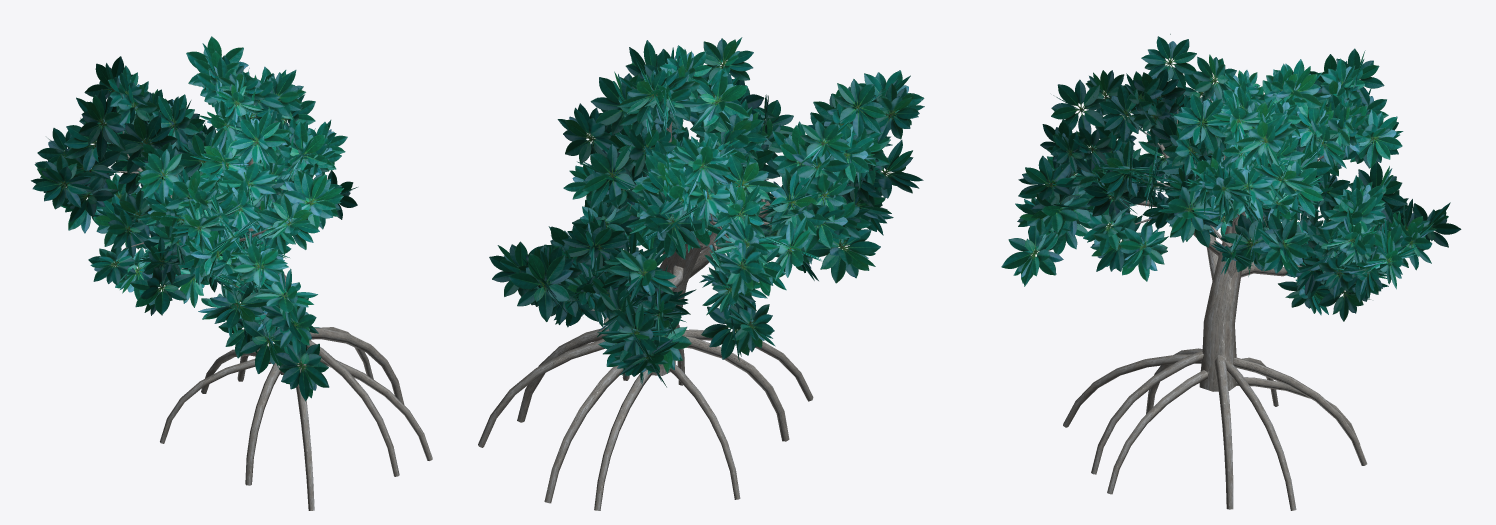
File: nature-blue-mangrove_v3.glb
3 renders of one model, left to right at view 1: azimuth 30°, elevation 25°; view 2: azimuth 150°, elevation 25°; view 3: azimuth 270°, elevation 25°, orthographic. The views are drawn at different scales.
Visible parts, largest first — view 1: nature-blue-mangrove; view 2: nature-blue-mangrove; view 3: nature-blue-mangrove.
Part boxes in pixels (<box>): nature-blue-mangrove: <box>31,36,432,510</box>; nature-blue-mangrove: <box>478,37,924,510</box>; nature-blue-mangrove: <box>1001,34,1461,510</box>.
Bounding box in the file's own units: 6.82 × 7.59 × 8.76.
Materials: 2 (2 with a texture image).
